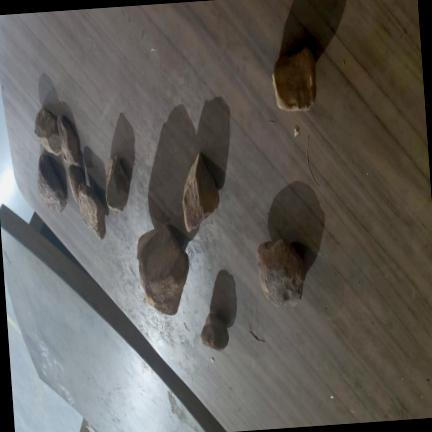Rocks: (136, 224, 188, 314), (256, 239, 305, 305), (182, 153, 218, 230), (272, 47, 315, 110), (37, 155, 66, 210), (78, 183, 104, 239), (105, 155, 129, 213), (34, 108, 60, 155), (56, 115, 80, 165), (200, 312, 228, 350), (67, 164, 85, 202)
